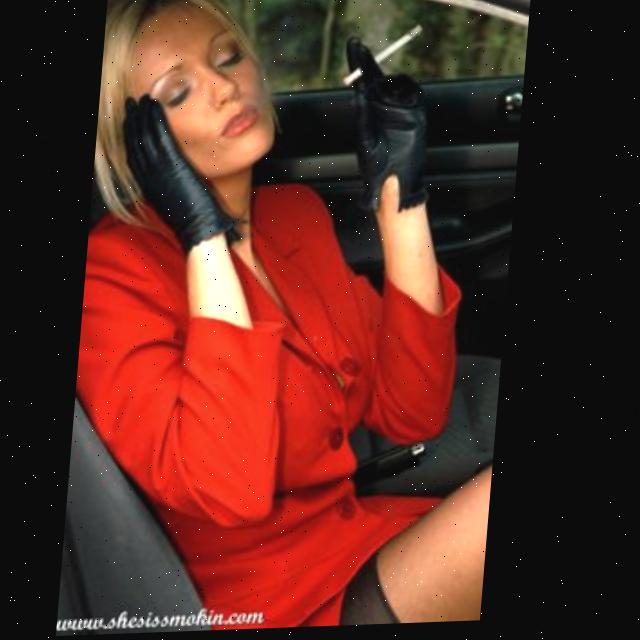cigarette: (345, 25, 425, 89)
